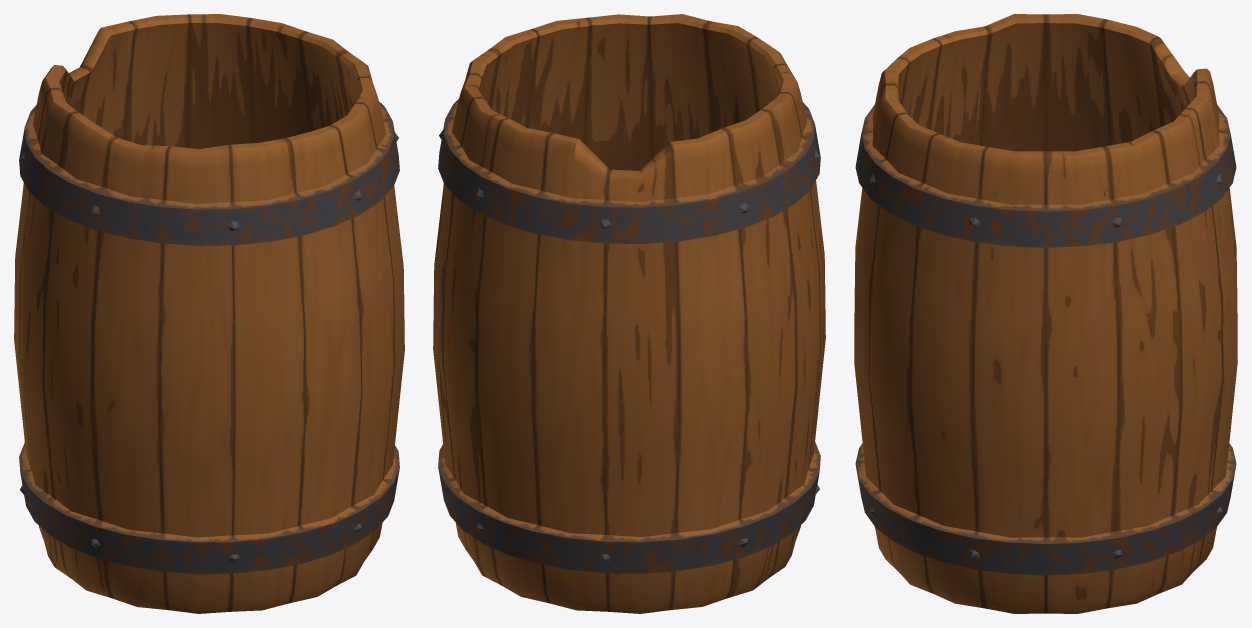
Rendered from Cup_Barrel.fbx.
3 views of the same model, side by side, from view 1: azimuth 30°, elevation 25°; view 2: azimuth 150°, elevation 25°; view 3: azimuth 270°, elevation 25° (orthographic).
Parts seen in each view (by area): view 1: Cup_Barrel; view 2: Cup_Barrel; view 3: Cup_Barrel.
Part boxes in pixels (left/top/right/bottom): Cup_Barrel: left=14, top=14, right=404, bottom=613; Cup_Barrel: left=433, top=14, right=825, bottom=613; Cup_Barrel: left=854, top=14, right=1237, bottom=613.
Bounding box in the file's own units: 0.6687 × 0.8994 × 0.6687.
1 material, 1 textured.
